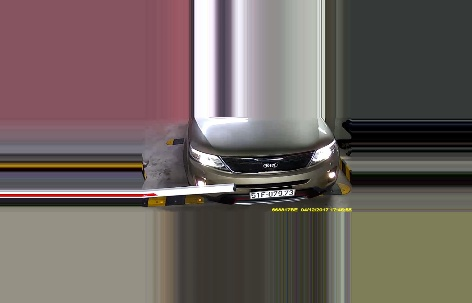plate: (249, 189, 297, 198)
